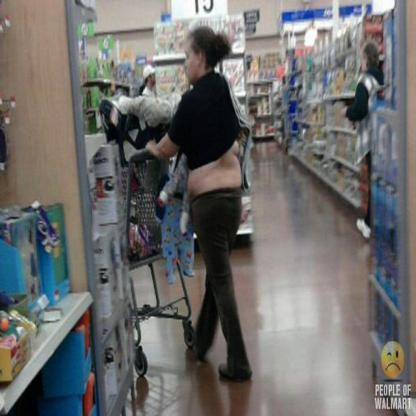face: (185, 39, 199, 84), (361, 53, 371, 74), (151, 69, 156, 86)
